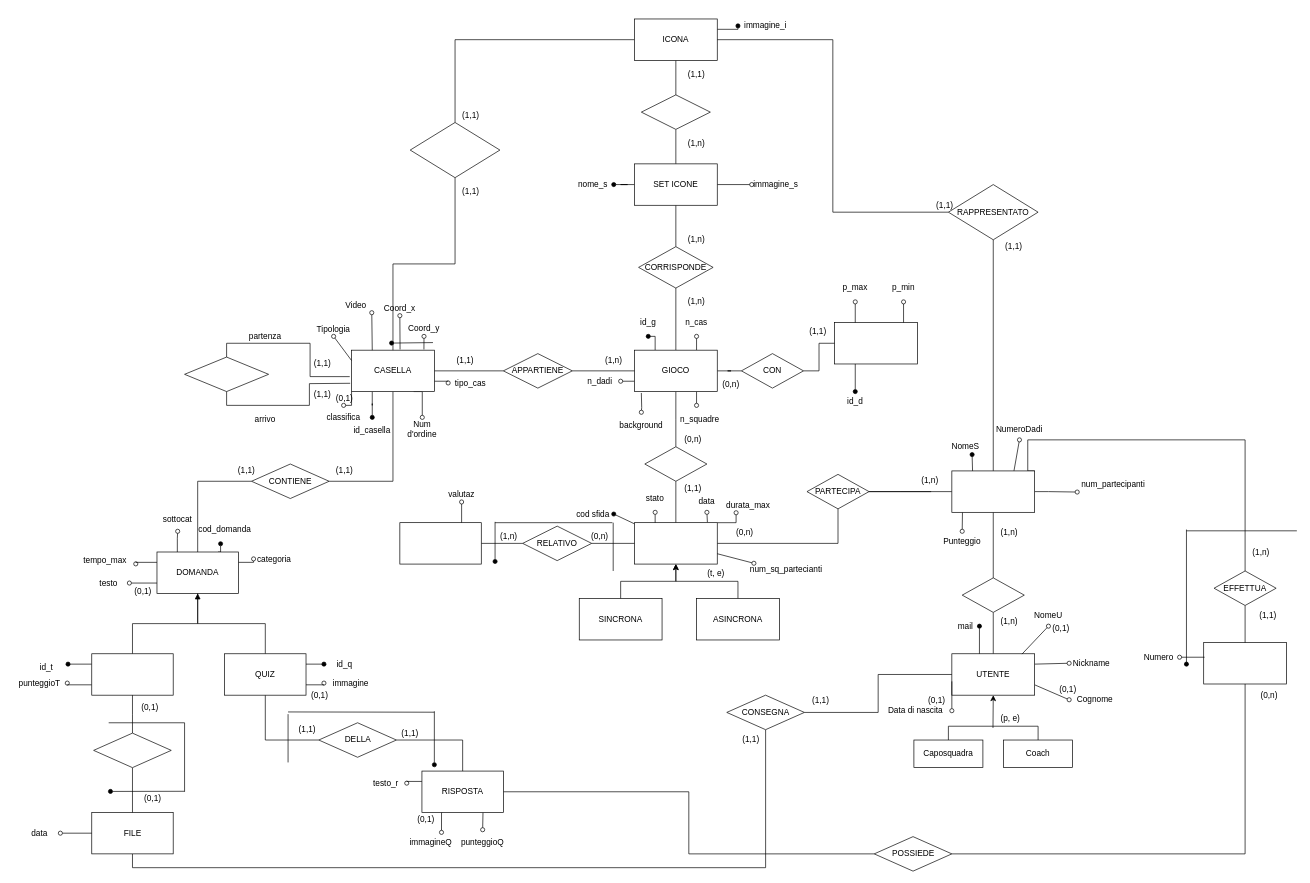
The diagram is 1310 pixels wide and 883 high, and some of its shapes have lost their labels. Each missing label, with the centre of its shape:
"ADMIN" belongs at pixel 440 543.
"CARICATO" belongs at pixel 132 750.
"COMPOSTA" belongs at pixel 993 594.
"DADO" belongs at pixel 875 343.
"DESTINAZIONE" belongs at pixel 226 374.
"HA" belongs at pixel 675 463.
"POSIZIONATO" belongs at pixel 455 150.
"RELATIVA" belongs at pixel 675 111.
"SFIDA" belongs at pixel 675 543.
"SQUADRA" belongs at pixel 993 491.
"TASK" belongs at pixel 132 674.
"TURNO" belongs at pixel 1245 663.
